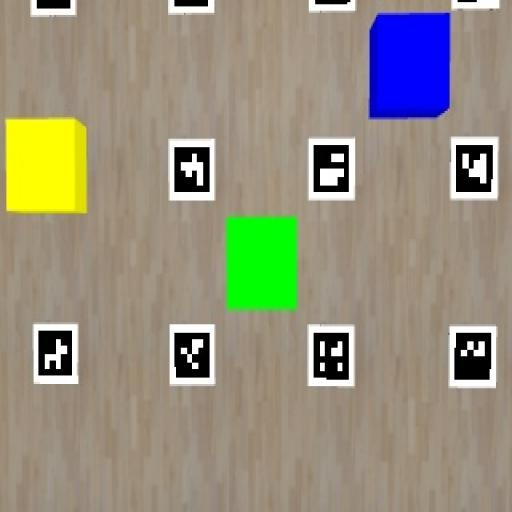car: (368, 13, 451, 119), (226, 218, 299, 311)
fire: (5, 118, 87, 213)
